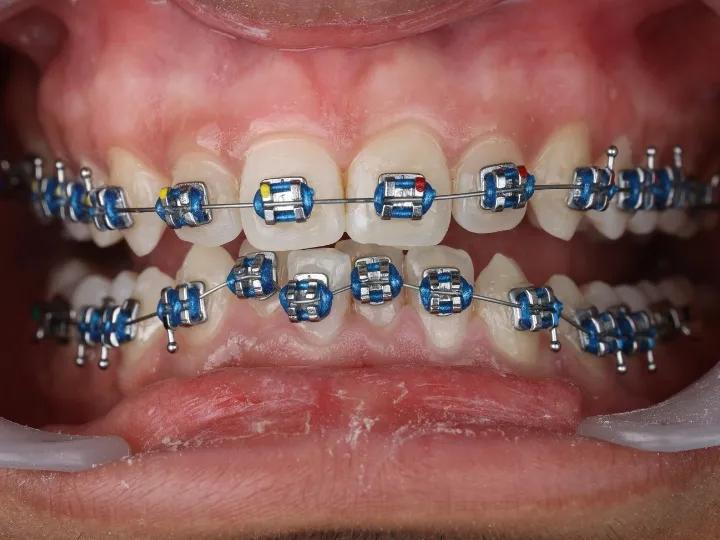Braces: (25, 160, 720, 360)
